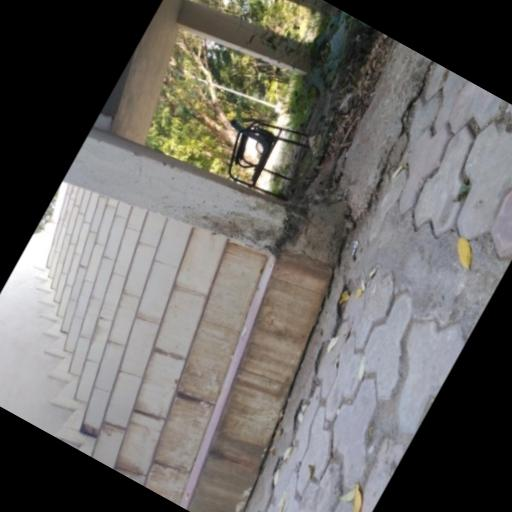stairs: (48, 185, 331, 511)
